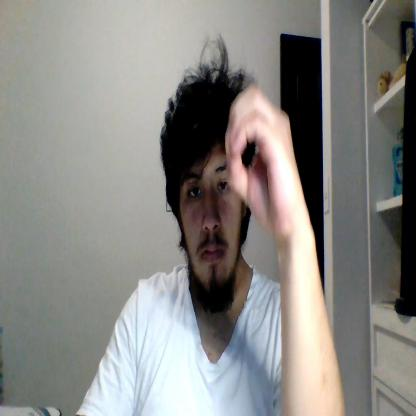O: (226, 84, 296, 234)
